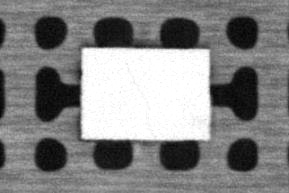DIE_CRACK: (125, 63, 156, 139)
